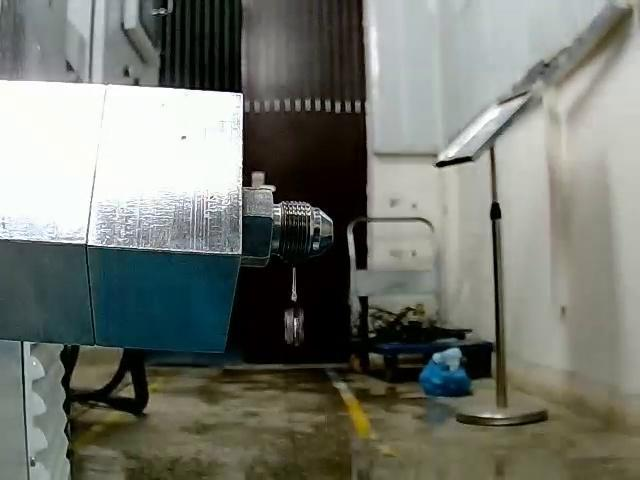water drop: (282, 309, 307, 346), (290, 267, 298, 299)
